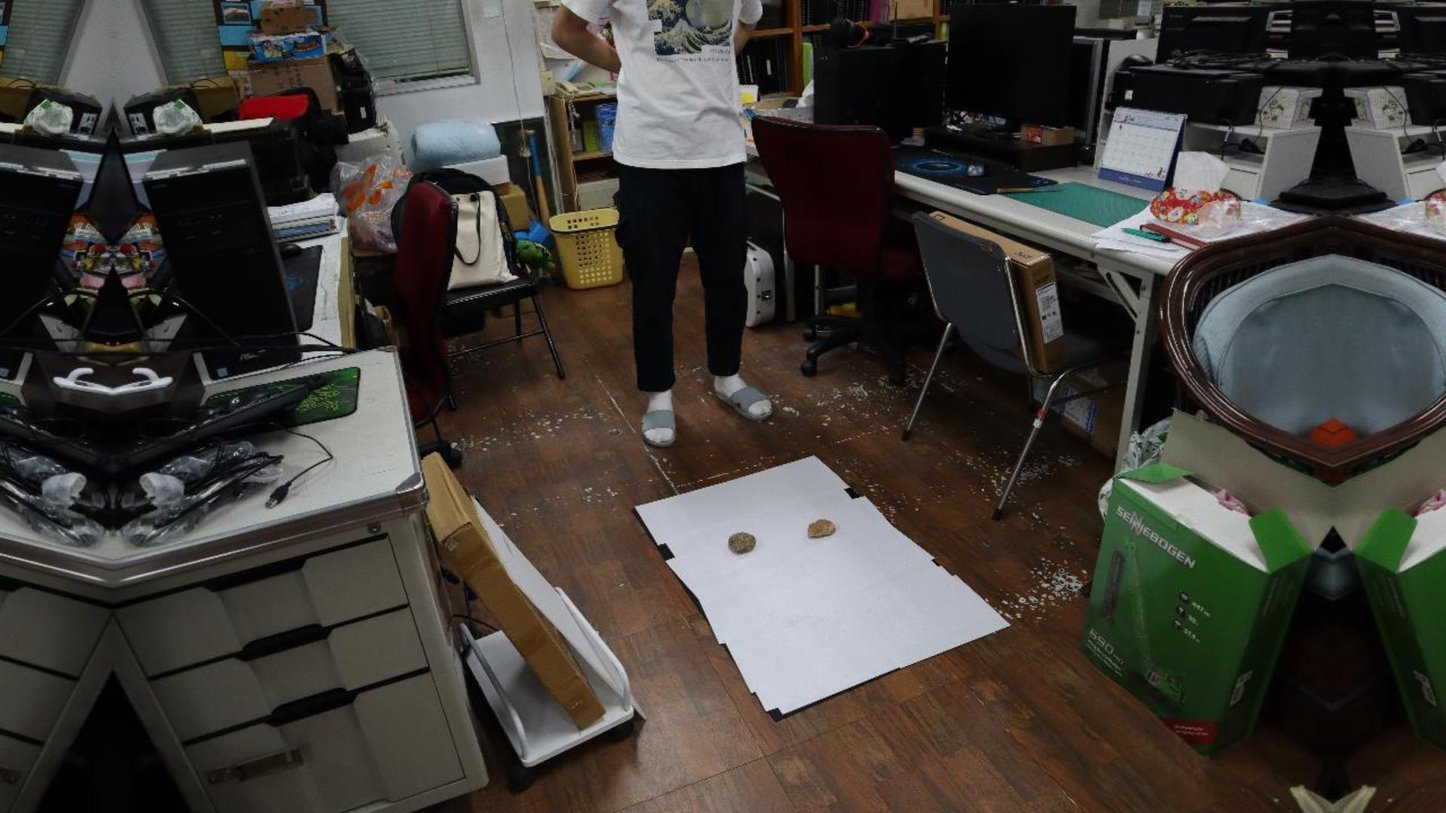rock: (728, 532, 755, 553), (808, 518, 837, 537)
